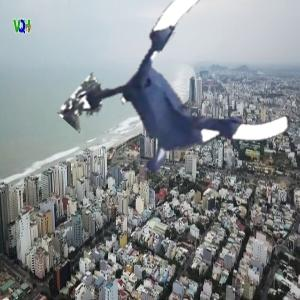drone: (95, 10, 284, 199)
